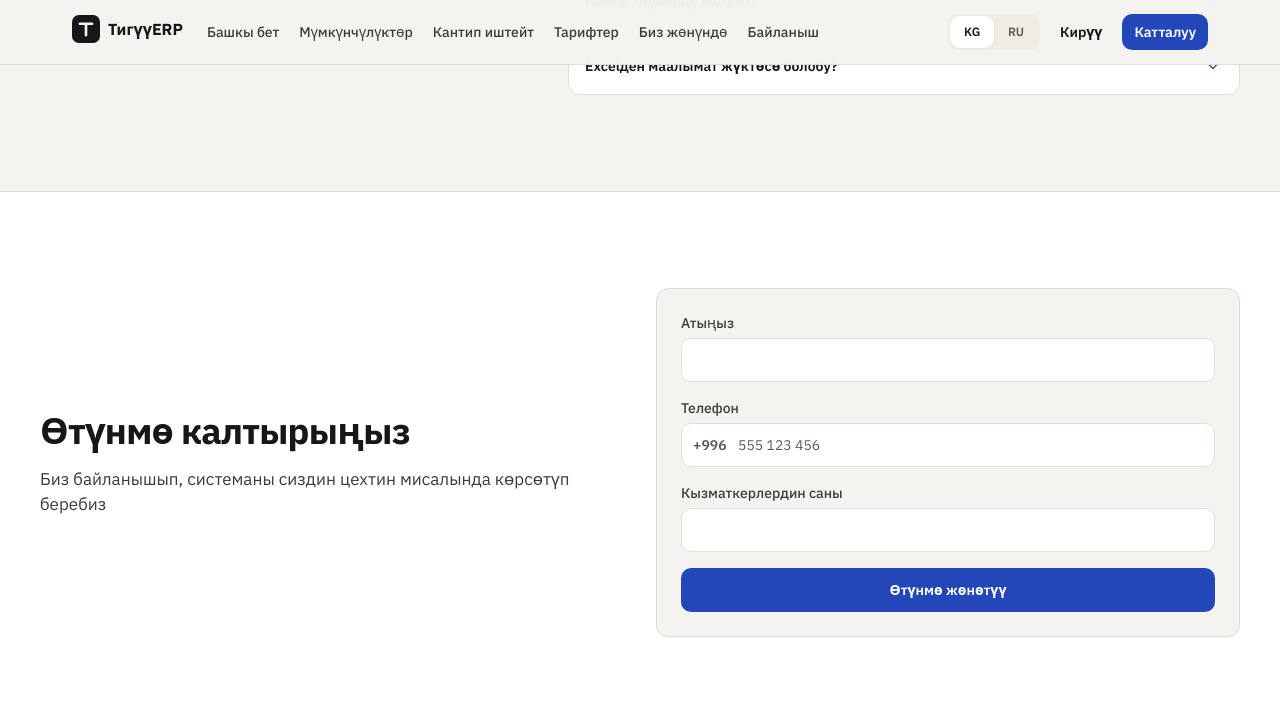
Test: landing (6.1) › renders the hero and submits a lead via POST /leads
The width and height of the screenshot is (1280, 720).
(page scrolled)
Type "Айбек" into the field labelled "Атыңыз". click: (948, 360)
box: 681,338 -> 1215,382
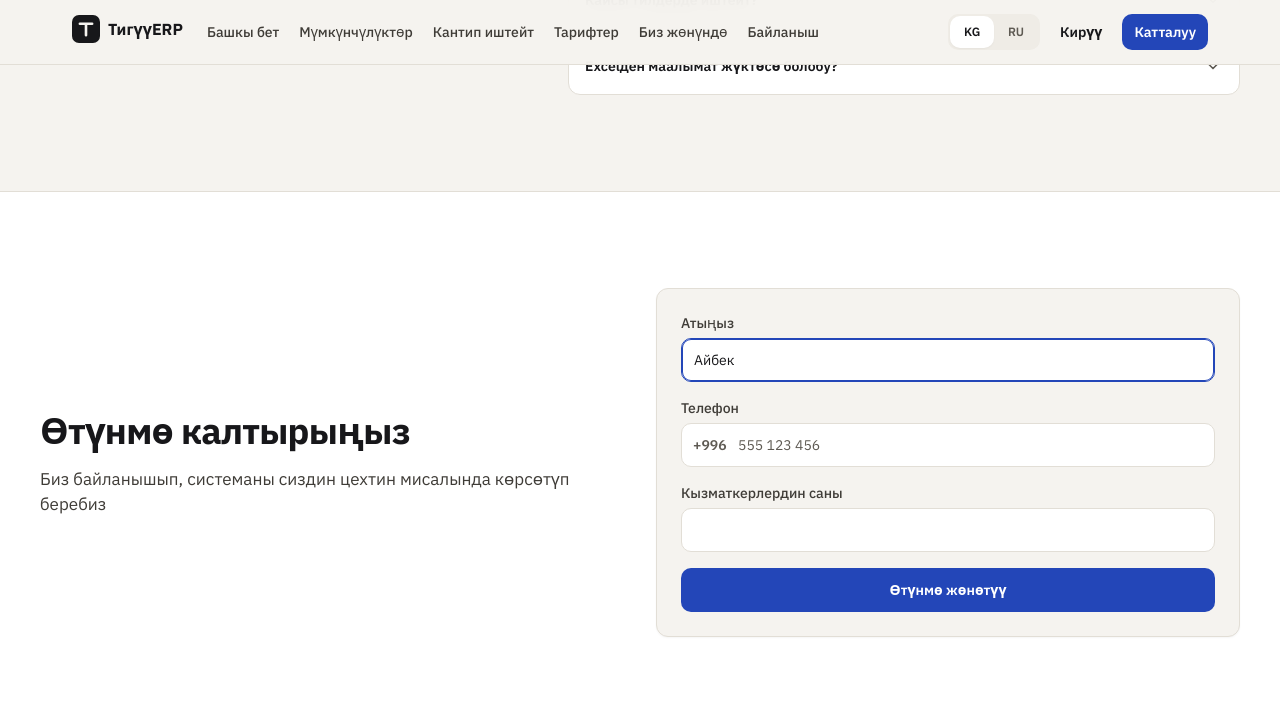
Type "555987654" into the field labelled "Телефон". click: (948, 445)
box: 681,423 -> 1215,467
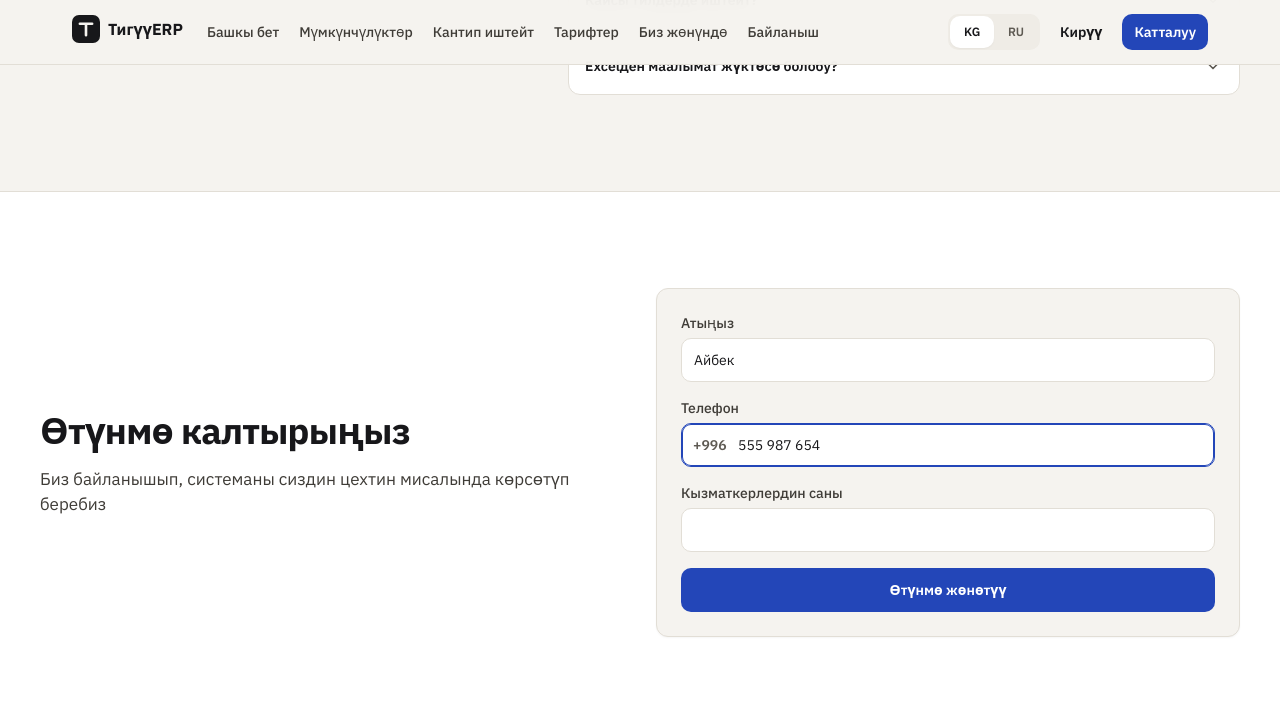
Type "40" into the number field labelled "Кызматкерлердин саны". click: (948, 530)
box: 681,508 -> 1215,552
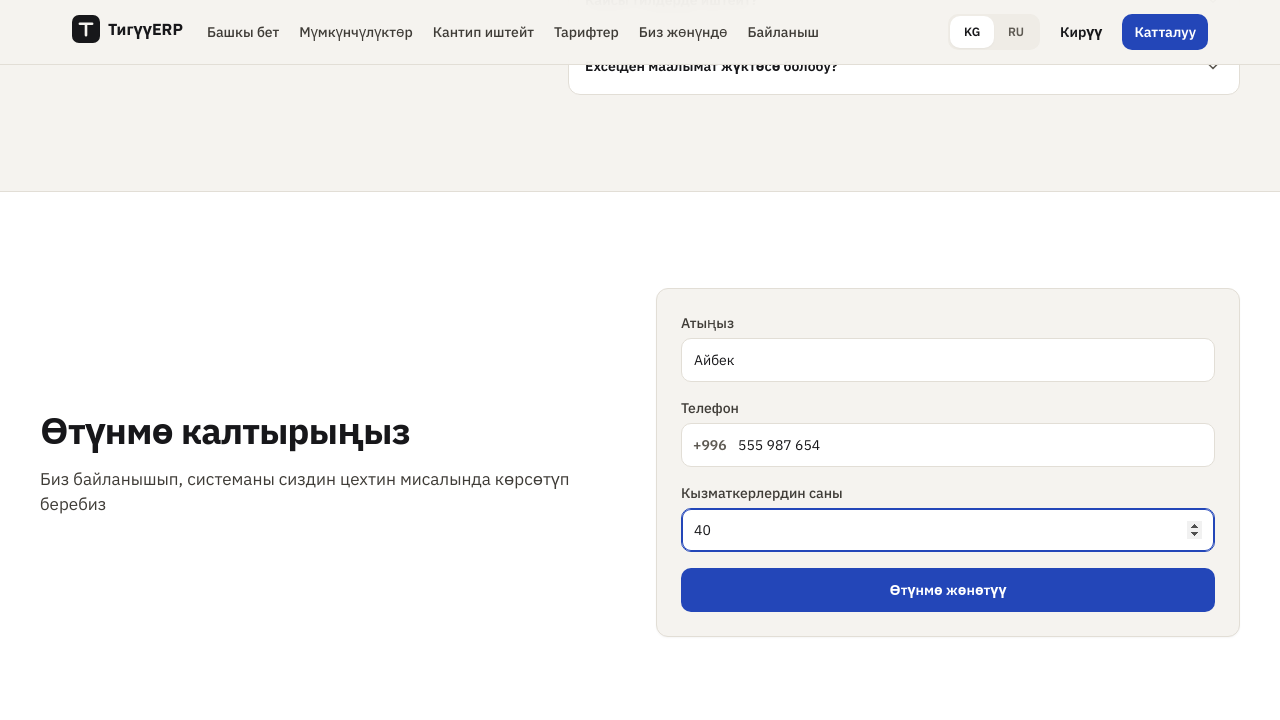
Click the button "Өтүнмө жөнөтүү". click: (948, 590)
box: 681,568 -> 1215,612
(page scrolled)
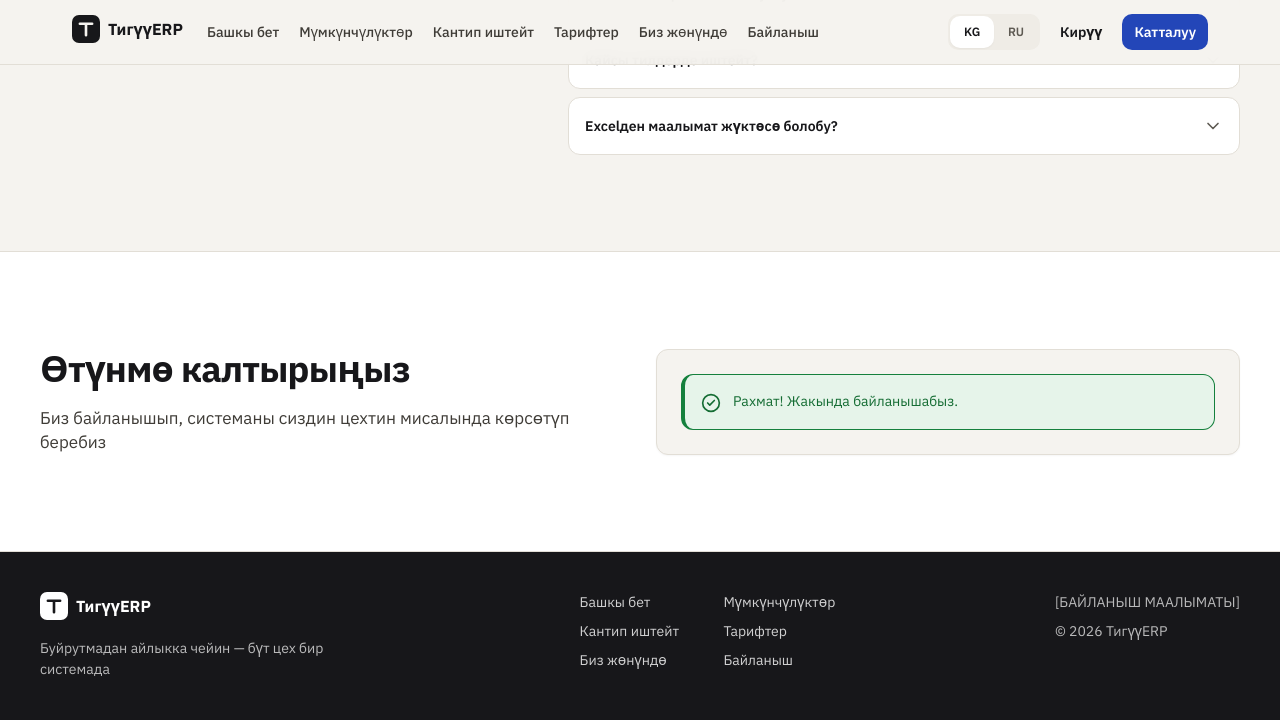
Expected: the text "Рахмат! Жакында байланышабыз." is shown, 733,392 -> 958,410
